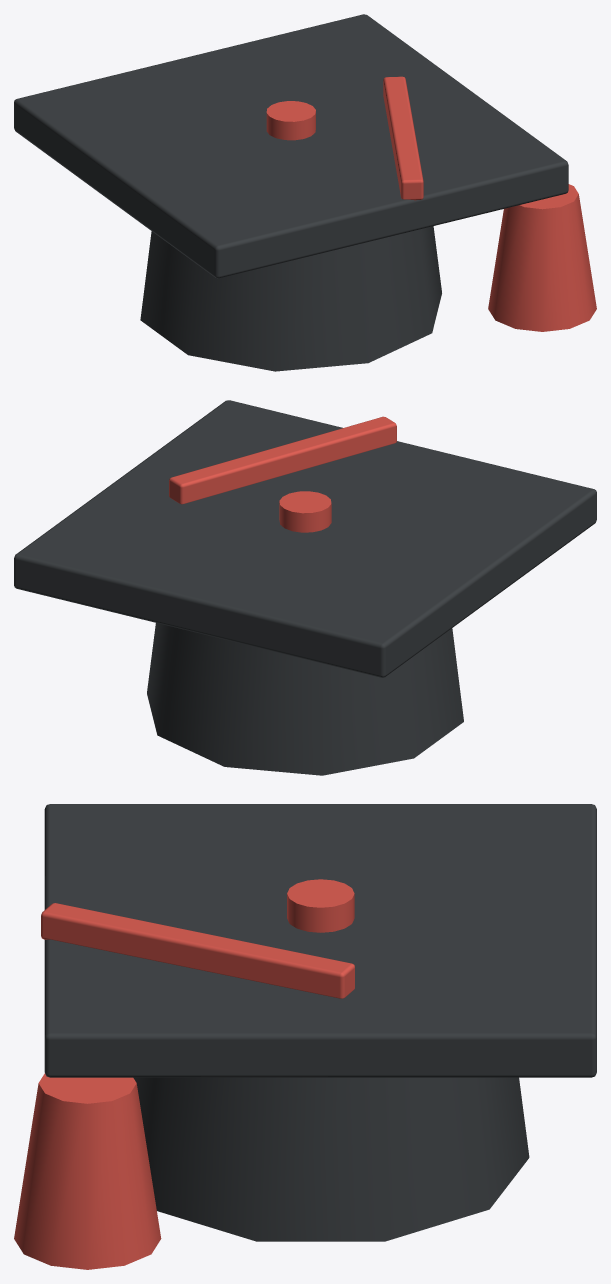
File: school-graduation-cap.glb
3 renders of one model, top to bottom at view 1: azimuth 30°, elevation 25°; view 2: azimuth 150°, elevation 25°; view 3: azimuth 270°, elevation 25°, orthographic. The views are drawn at different scales.
Parts seen in each view (by area): view 1: cap, head, tassel, tassel-cord, button; view 2: cap, head, tassel-cord, button; view 3: cap, head, tassel, tassel-cord, button.
Boxes of the visible parts, left/top/right/bottom form: cap: left=14, top=14, right=568, bottom=278; head: left=140, top=226, right=441, bottom=371; tassel: left=488, top=184, right=596, bottom=331; tassel-cord: left=383, top=76, right=423, bottom=200; button: left=266, top=101, right=315, bottom=140; cap: left=14, top=400, right=596, bottom=677; head: left=147, top=623, right=463, bottom=775; tassel-cord: left=169, top=416, right=396, bottom=504; button: left=279, top=491, right=331, bottom=532; cap: left=44, top=804, right=596, bottom=1077; head: left=133, top=1077, right=529, bottom=1241; tassel: left=14, top=1073, right=161, bottom=1269; tassel-cord: left=41, top=903, right=354, bottom=998; button: left=287, top=879, right=354, bottom=932.
Size of the model in its own units: 0.99 by 0.475 by 0.95.
